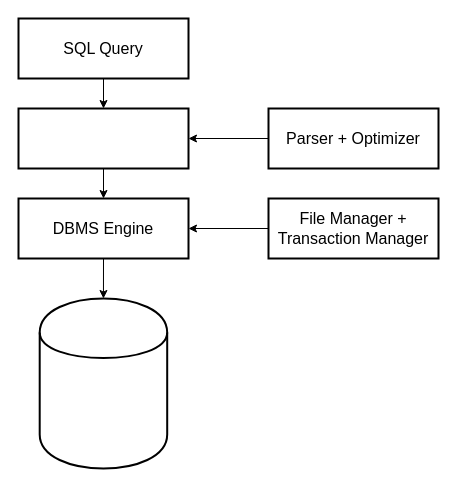
Some shapes in this 456 by 486 pixel diagram are drawn without their labels. The shapes that lost their labels are listed below. From the top down, each one's centre as x and y in pixels, then its label:
(x=103, y=138): Query Language Processor
(x=103, y=383): Physical Database
